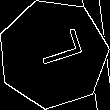L_W: (24, 31, 83, 76)
